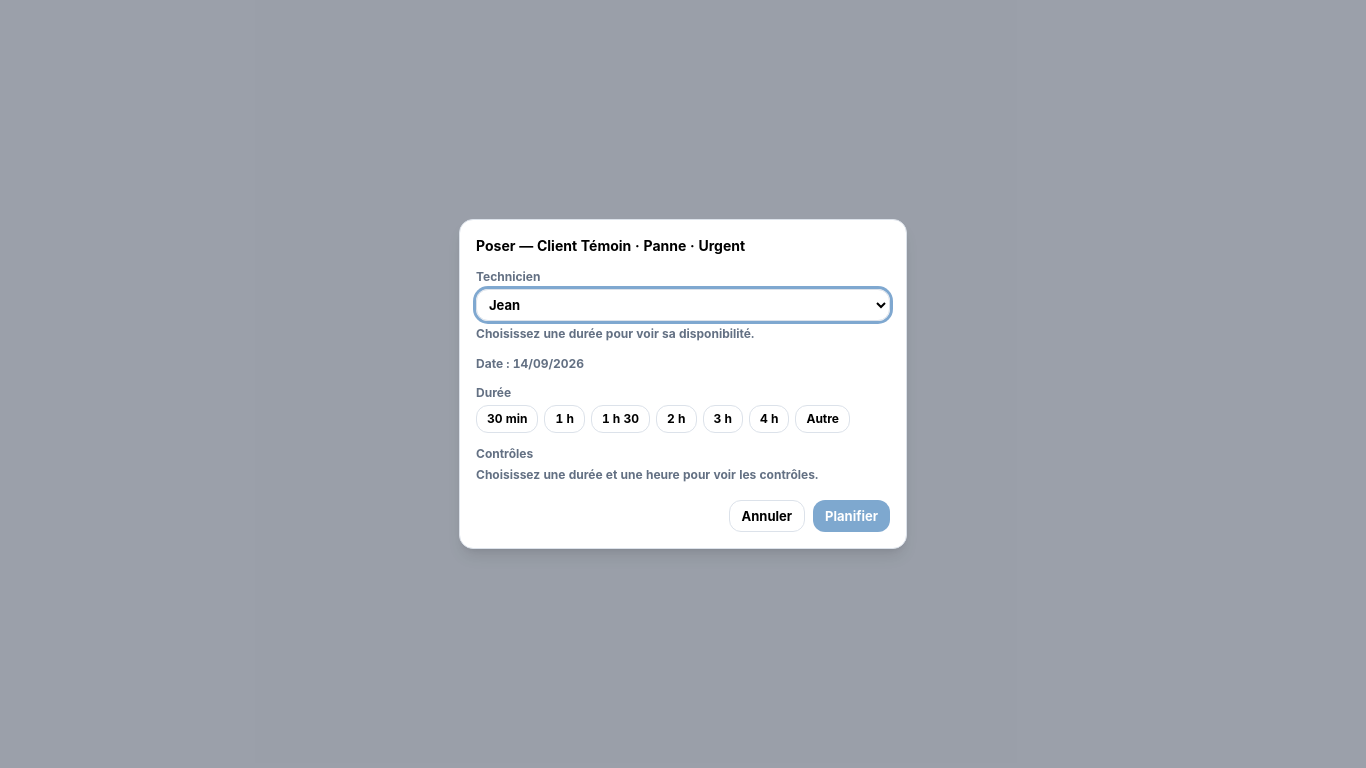
it: le libellé sous « Technicien », une fois l'heure choisie (9F3B point 3) › TÉMOIN — une VRAIE absence (refus bloquant, jamais confirmable) garde « Absent ce jour-là »
This screenshot has width=1366, height=768.
Click the button "1 h": x=565, y=419 [544,405,585,433]
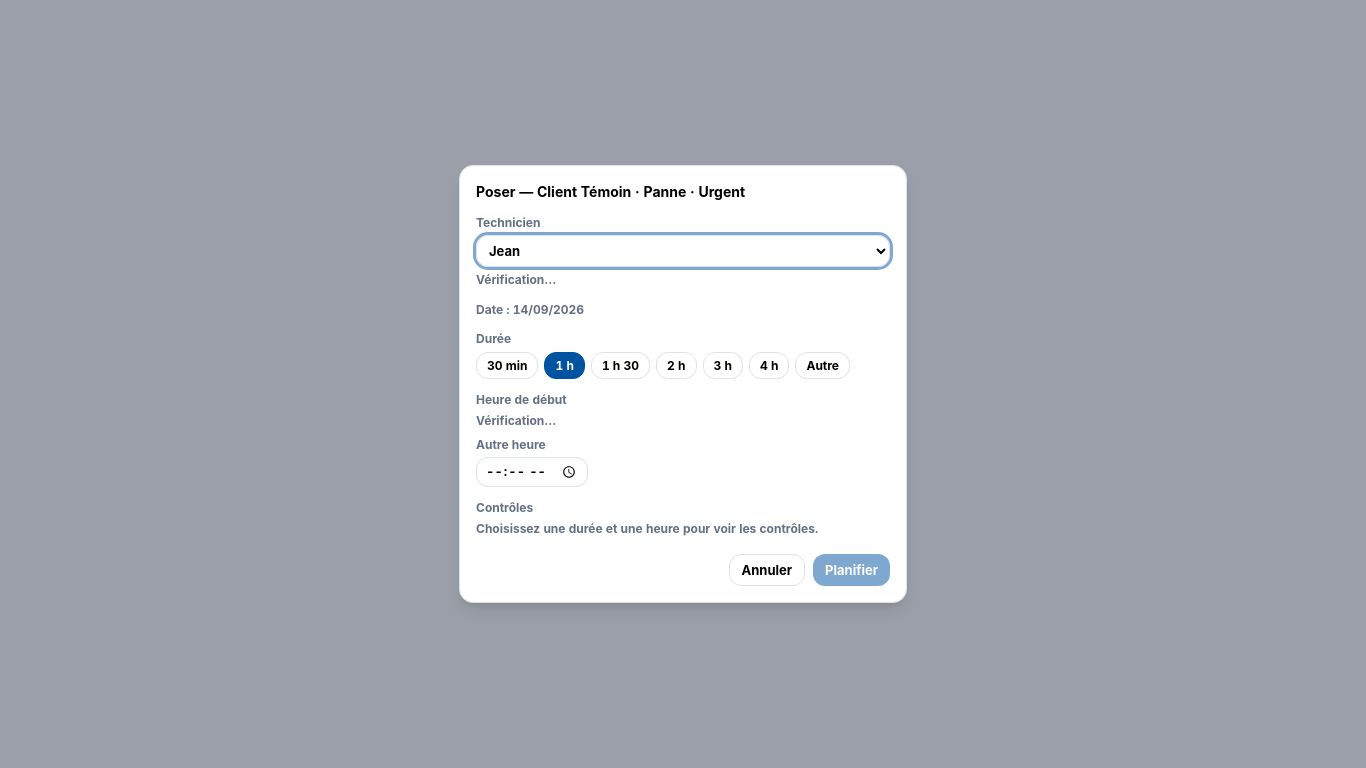
In the time field labelled "Autre heure": x=532, y=472 [476,457,588,487], type "09:00"
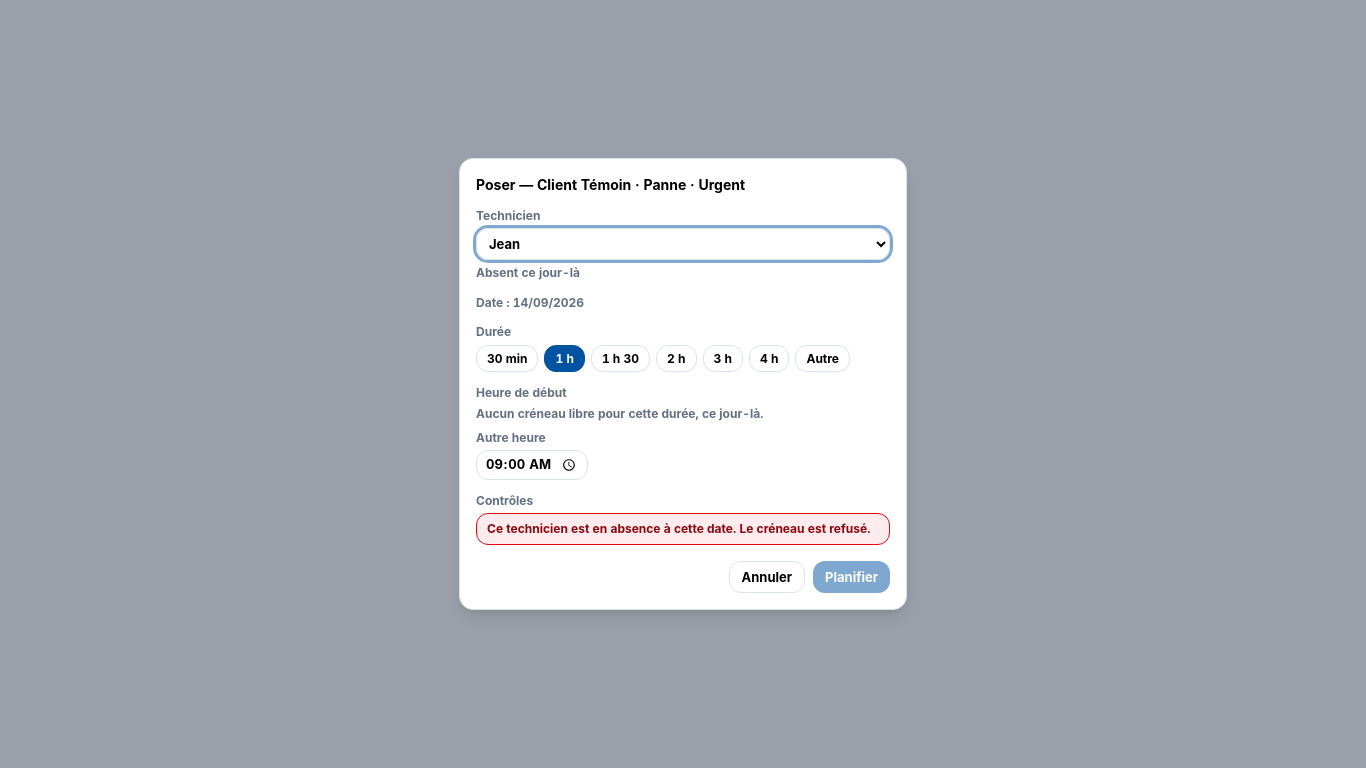
expect the text "Absent ce jour-là" is shown: met, box [476,265,580,280]
